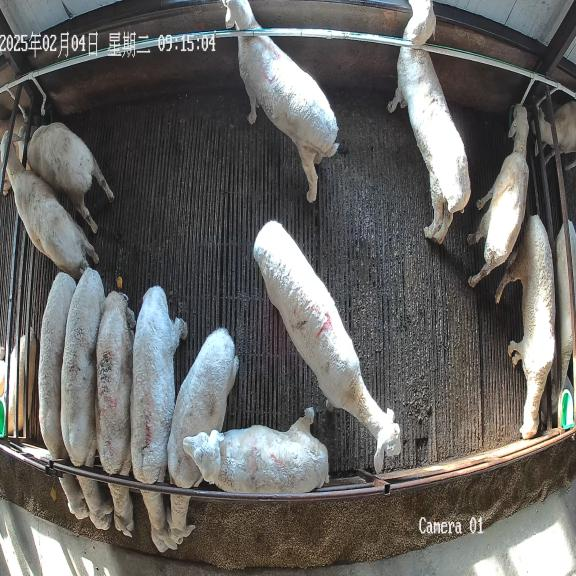drinking: (468, 106, 529, 287), (14, 123, 114, 233)
eating: (165, 328, 238, 549), (131, 286, 187, 552), (61, 268, 114, 530), (38, 272, 90, 519), (95, 291, 135, 537)
stand: (253, 221, 401, 472), (222, 0, 339, 202), (387, 0, 471, 244), (0, 129, 100, 279), (496, 215, 555, 439), (183, 408, 329, 494)
